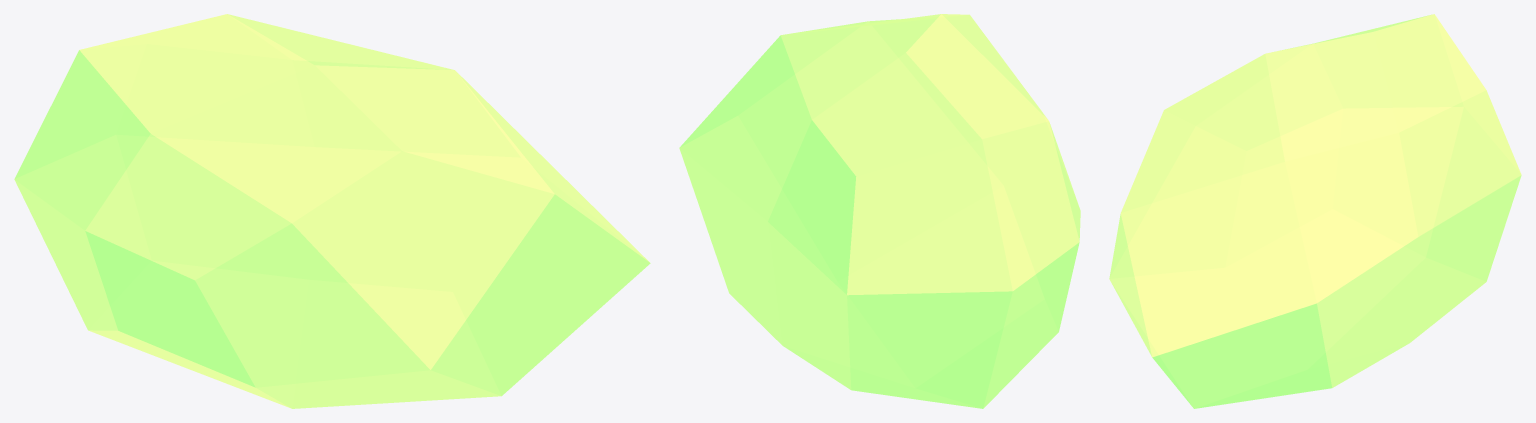
File: enemy3.fbx
3 renders of one model, left to right at view 1: azimuth 30°, elevation 25°; view 2: azimuth 150°, elevation 25°; view 3: azimuth 270°, elevation 25°, orthographic. The views are drawn at different scales.
Parts seen in each view (by area): view 1: Enemy-3; view 2: Enemy-3; view 3: Enemy-3.
Boxes of the visible parts, x1=… form: Enemy-3: x1=14, y1=14, x2=650, y2=408; Enemy-3: x1=679, y1=14, x2=1080, y2=408; Enemy-3: x1=1109, y1=14, x2=1521, y2=408.
Bounding box in the file's own units: 149 × 116 × 133.
